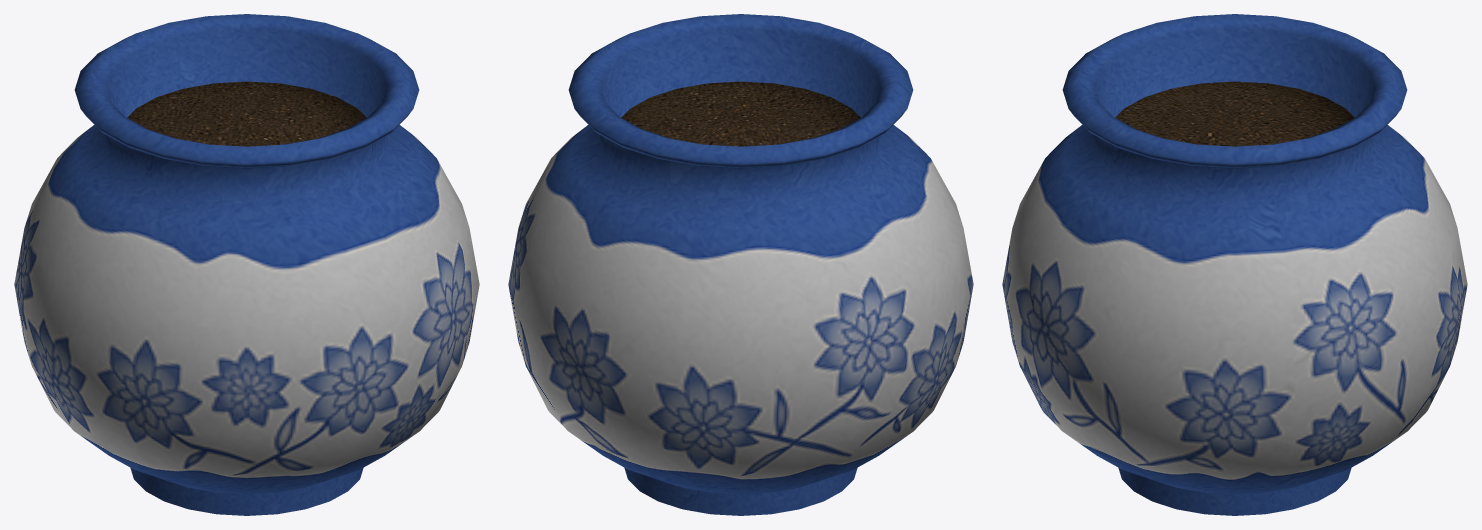
File: Furniture_flowerpot_02a_LOD0.fbx
3 views of the same model, side by side, from view 1: azimuth 30°, elevation 25°; view 2: azimuth 150°, elevation 25°; view 3: azimuth 270°, elevation 25° (orthographic).
Visible parts, largest first — view 1: Furniture_foliagepot_01b_LOD0_01; view 2: Furniture_foliagepot_01b_LOD0_01; view 3: Furniture_foliagepot_01b_LOD0_01.
Boxes of the visible parts, box(x1,y1,x2,y2) form: Furniture_foliagepot_01b_LOD0_01: box(14, 14, 479, 515); Furniture_foliagepot_01b_LOD0_01: box(508, 14, 973, 515); Furniture_foliagepot_01b_LOD0_01: box(1002, 14, 1467, 515).
Size of the model in its own units: 31.02 by 28.41 by 31.02.
